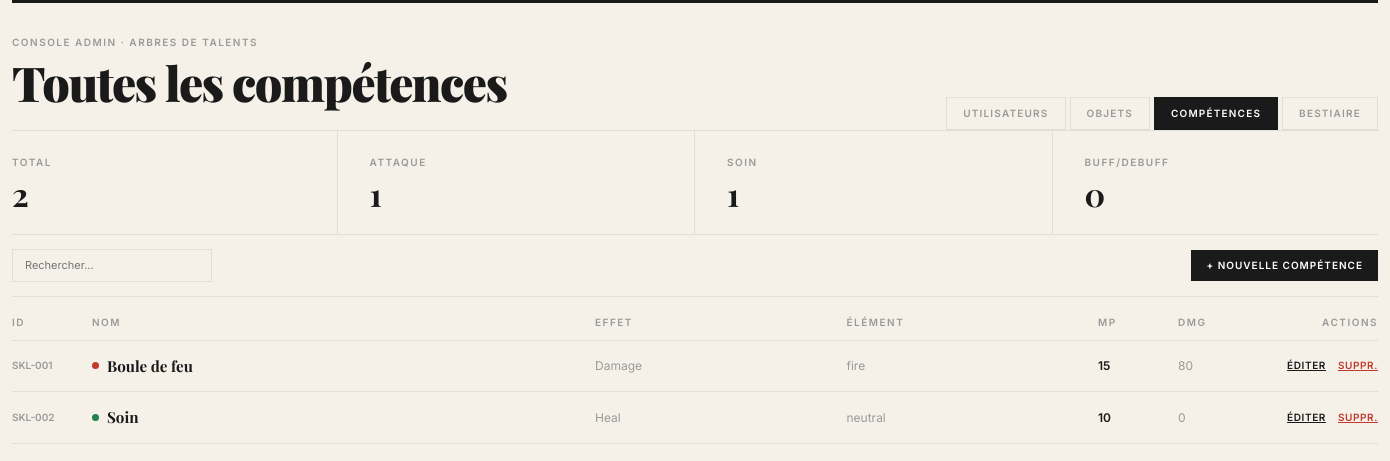
Test: AdminSkillsView › filtre les compétences par recherche textuelle
Type "Soin" into the field with placeholder "Rechercher..." at (112, 265), box [12,249,212,282]
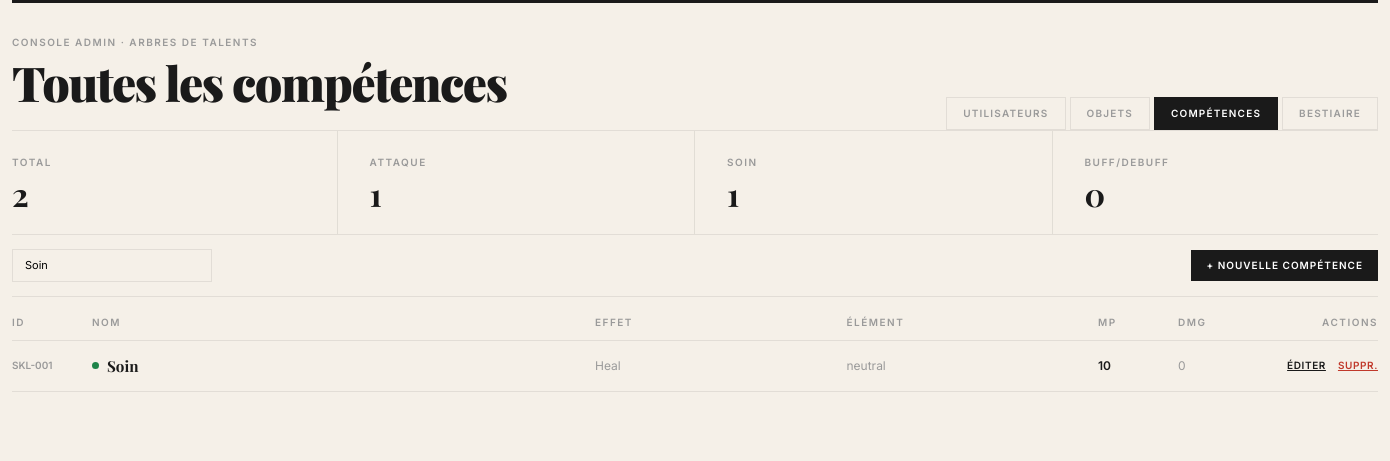
Expected: the text "Soin" is shown, [727,156,758,168]
Expected: the text "Boule" is gone
